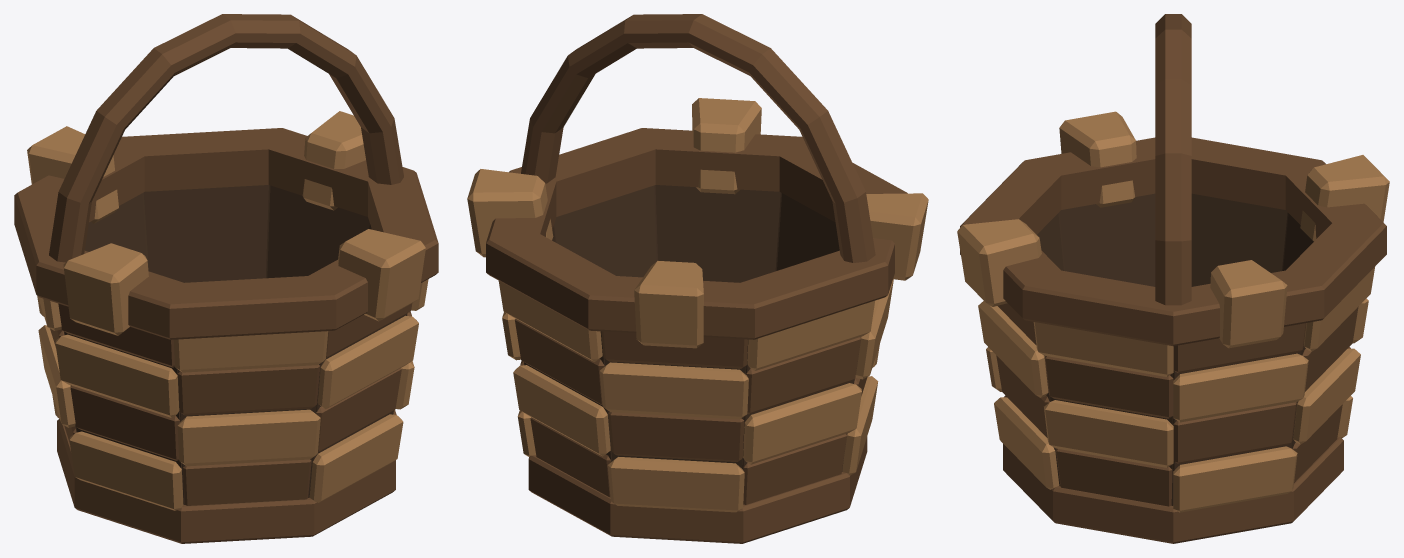
File: mdvl_props_basket_01.glb
The picture shows the model from 3 angles, left to right: view 1: azimuth 30°, elevation 25°; view 2: azimuth 150°, elevation 25°; view 3: azimuth 270°, elevation 25°; orthographic projection. The views are drawn at different scales.
Visible parts, largest first — view 1: mdvl_props_basket_01; view 2: mdvl_props_basket_01; view 3: mdvl_props_basket_01.
Boxes of the visible parts, x1=… form: mdvl_props_basket_01: x1=14, y1=14, x2=438, y2=543; mdvl_props_basket_01: x1=467, y1=14, x2=928, y2=543; mdvl_props_basket_01: x1=957, y1=14, x2=1389, y2=543.
Bounding box in the file's own units: 0.5232 × 0.592 × 0.5232.
Materials: 1 (1 with a texture image).
